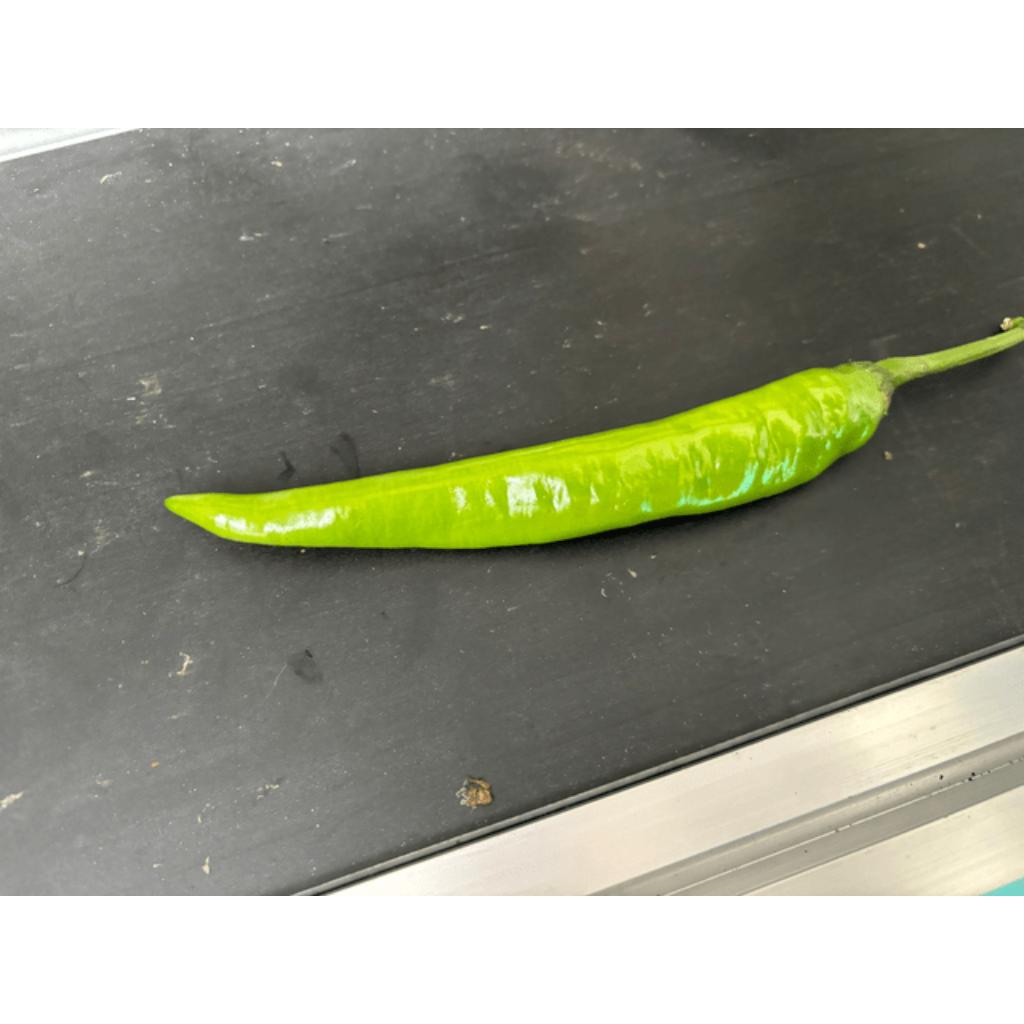chili: (159, 357, 903, 555)
